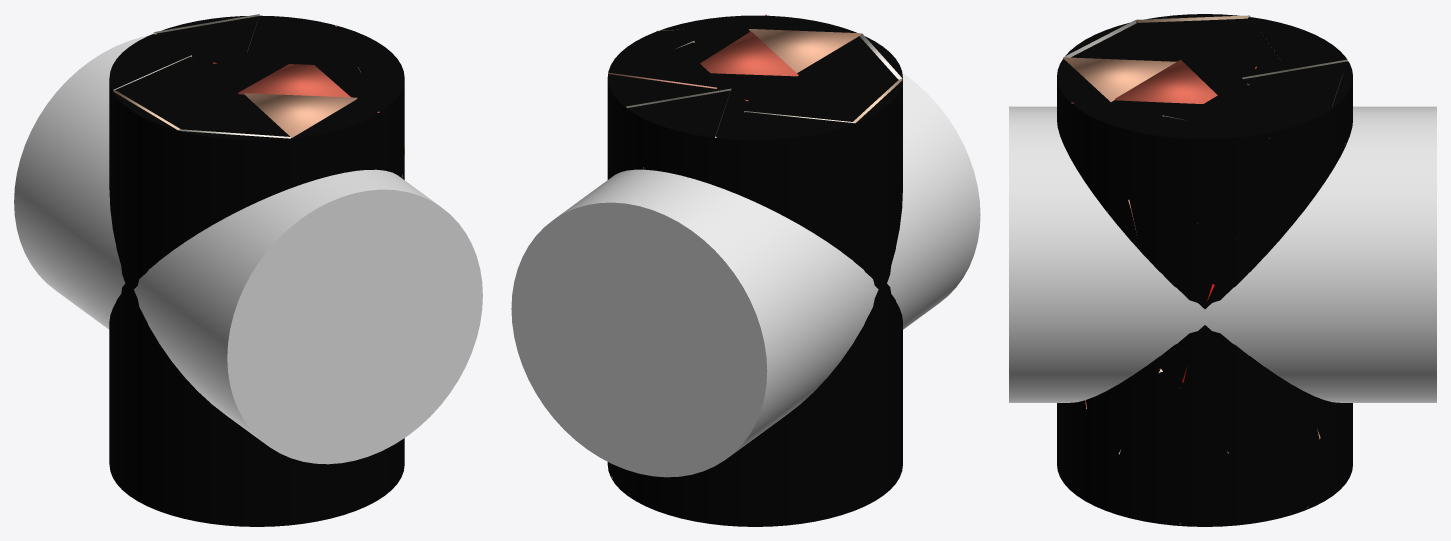
3 renders of one model, left to right at view 1: azimuth 30°, elevation 25°; view 2: azimuth 150°, elevation 25°; view 3: azimuth 270°, elevation 25°, orthographic.
Visible parts, largest first — view 1: Renderer Node; view 2: Renderer Node; view 3: Renderer Node.
Part boxes in pixels (x1,y1,x2,y2): Renderer Node: (14, 14, 482, 526); Renderer Node: (511, 14, 980, 526); Renderer Node: (1009, 14, 1436, 526).
Bounding box in the file's own units: 2.59 × 3.75 × 3.74.
